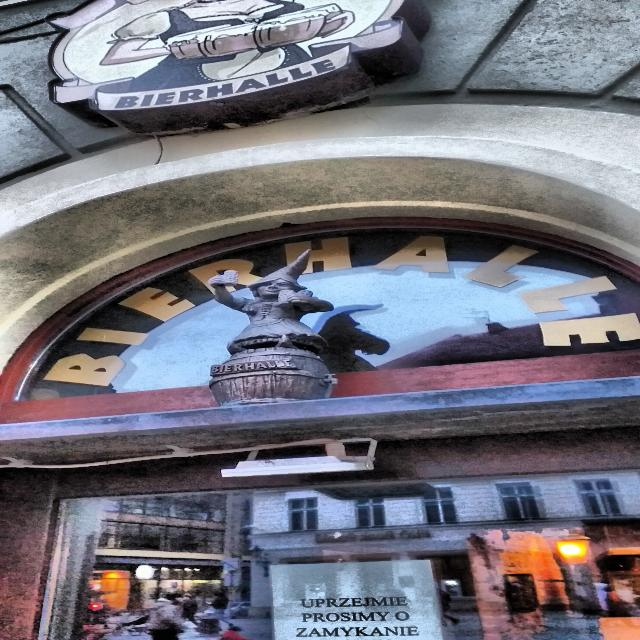Bawarka: (208, 250, 337, 406)
